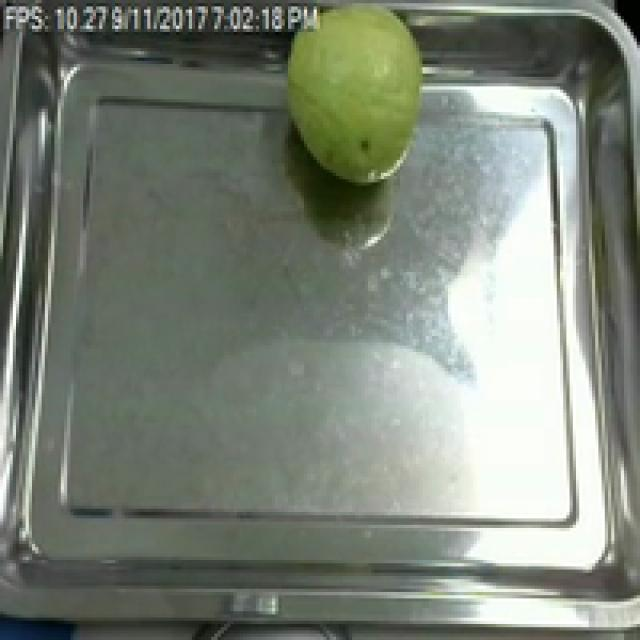Fruit: (275, 0, 432, 192)
